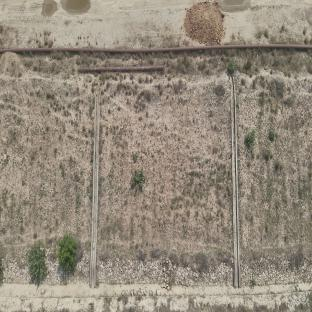rock_toe: (98, 253, 233, 283), (0, 249, 88, 284), (241, 255, 312, 285)
slope_drain: (88, 90, 104, 289), (230, 78, 241, 290)
toe_drain: (0, 282, 312, 298)
vegetation: (59, 235, 80, 273), (29, 247, 48, 278)
